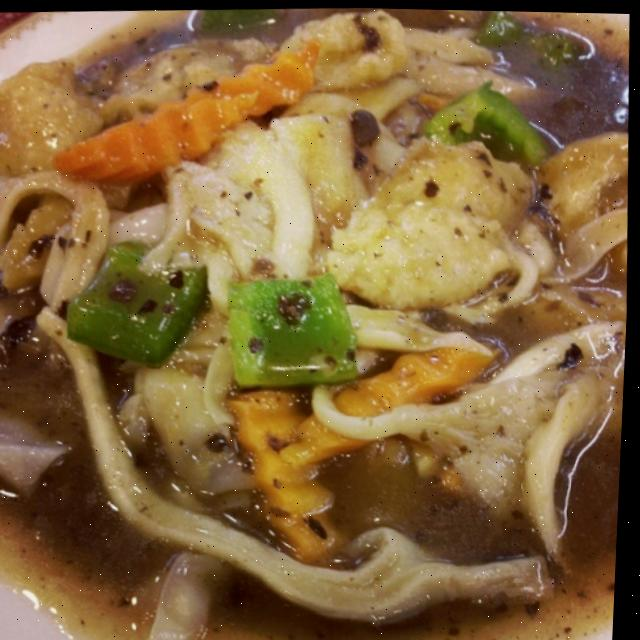面条主食: (0, 3, 632, 612)
